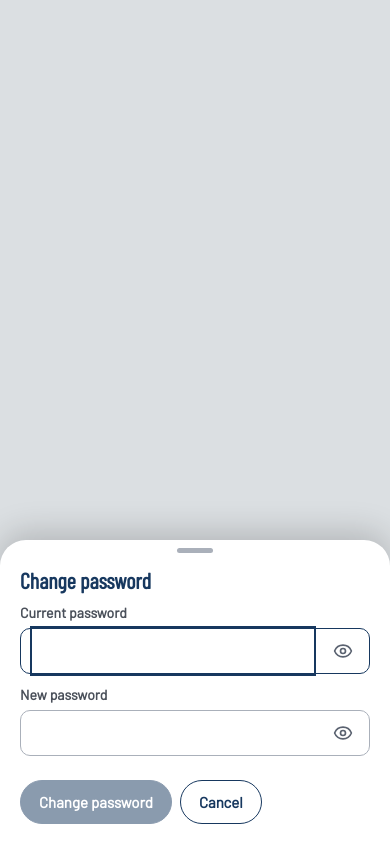
it: ChangePasswordSheet › shows the next password rule as the new one is typed, and holds the button until every rule is met
The width and height of the screenshot is (390, 844).
Type "old-Passw0rd!" into the password field labelled "Current password".
click(173, 651); type("old-Passw0rd!")  # box x1=33 y1=629 x2=313 y2=673
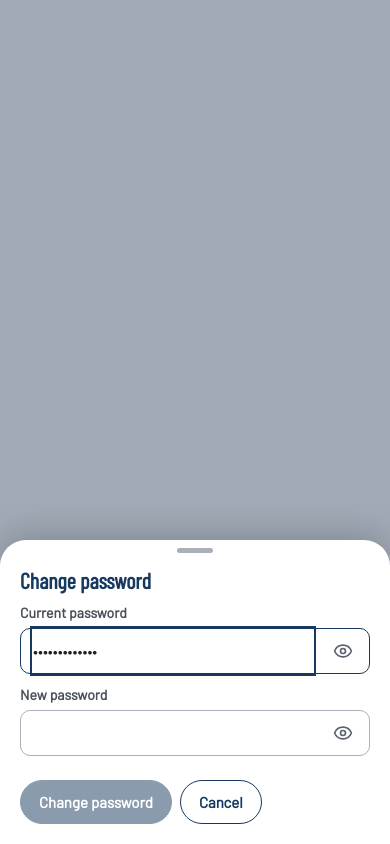
Type "abc" into the password field labelled "New password".
click(173, 733); type("abc")  # box x1=33 y1=711 x2=313 y2=755
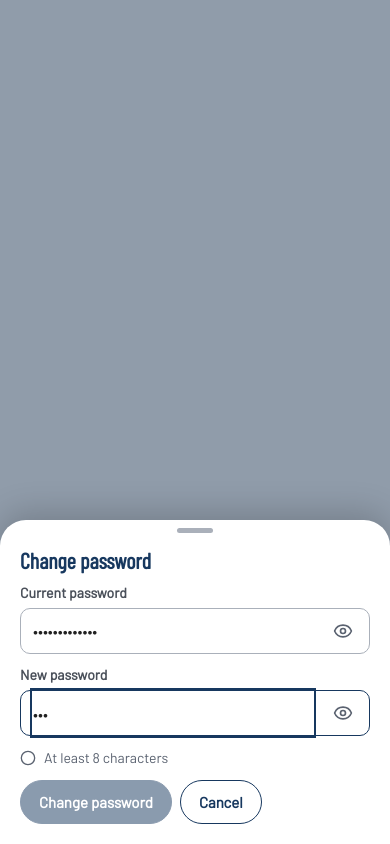
Expected: the button "Change password" is disabled, x1=20 y1=780 x2=172 y2=824
Result: the text "At least 8 characters" is shown at x1=44 y1=748 x2=168 y2=768
Type "defgh1!" into the password field labelled "New password".
click(173, 713); type("defgh1!")  # box x1=33 y1=691 x2=313 y2=735
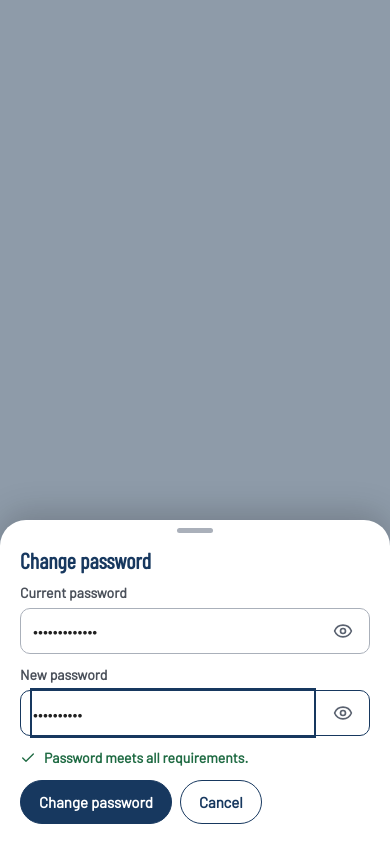
Result: the text "Password meets all requirements." is shown at x1=44 y1=748 x2=248 y2=768
Result: the button "Change password" is enabled at x1=20 y1=780 x2=172 y2=824
